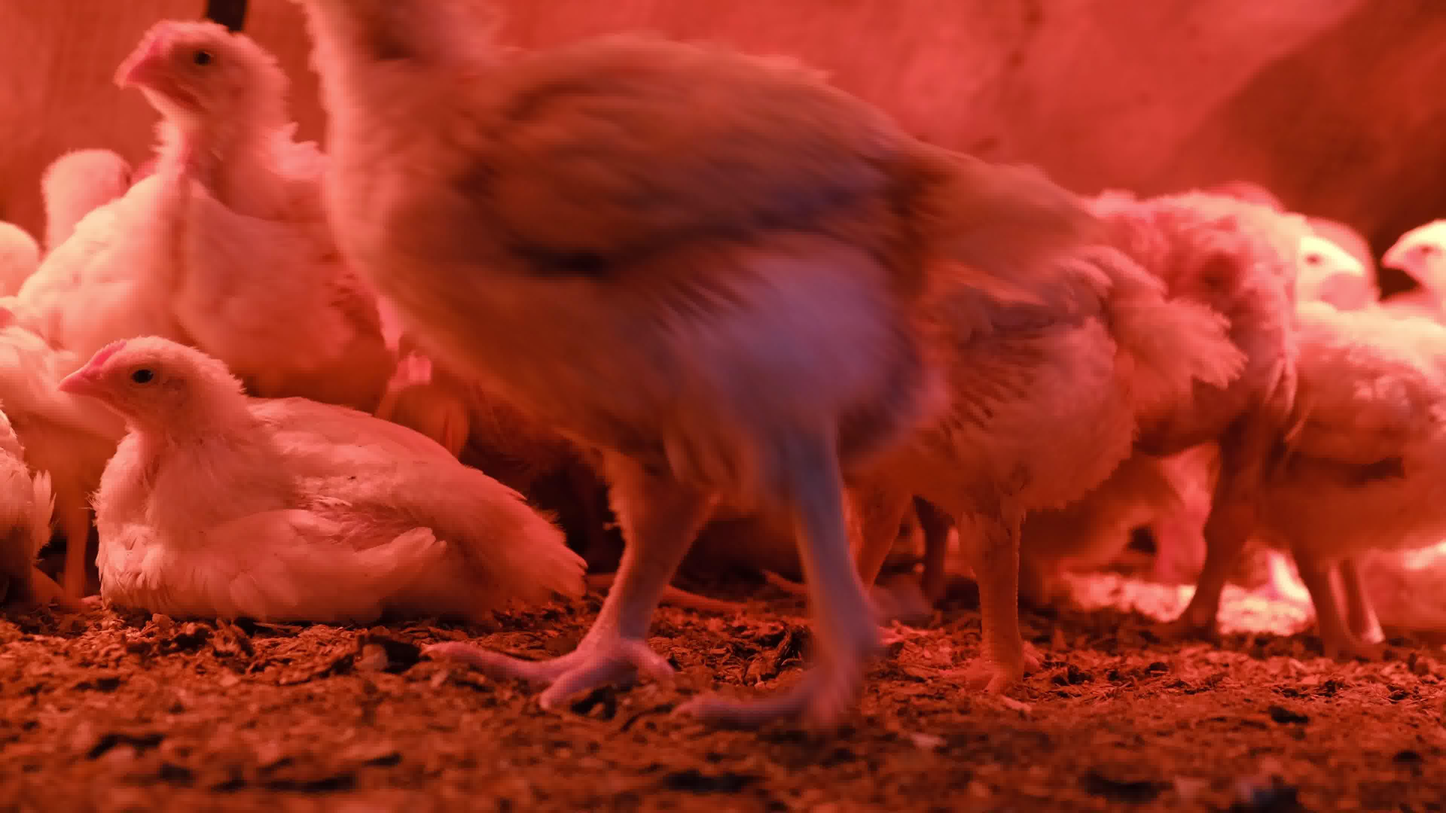AbNormal: (55, 335, 587, 616), (2, 394, 57, 619)
Normal: (296, 0, 1128, 759), (828, 234, 1230, 682), (13, 23, 418, 404), (1078, 192, 1301, 652), (1254, 320, 1446, 661), (0, 209, 105, 590), (40, 143, 125, 250), (1380, 211, 1446, 318), (1299, 222, 1371, 316)
